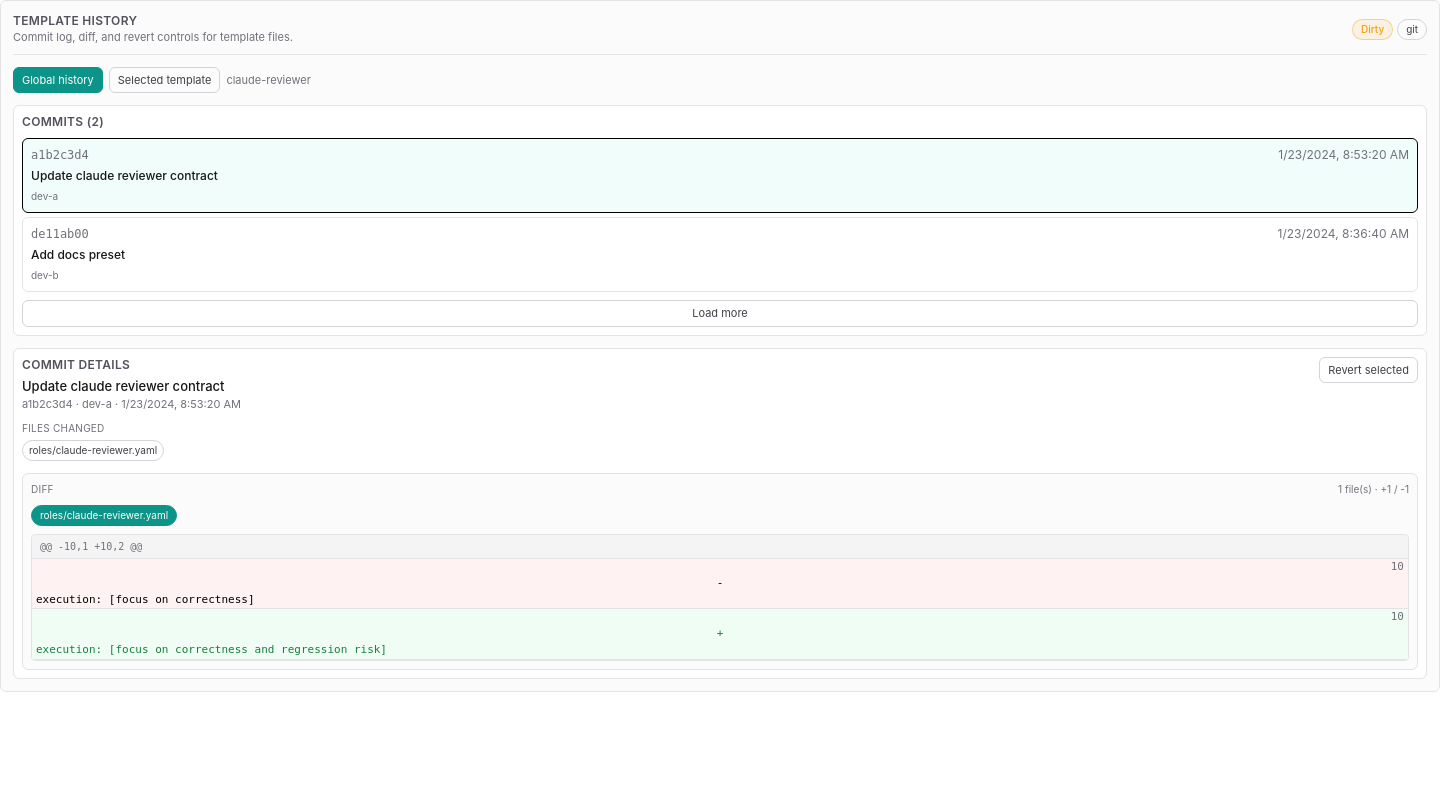
Test: TemplateHistoryPanel › loads more commits when next cursor exists
The width and height of the screenshot is (1440, 810).
Click the button with test id "template-history-load-more": (720, 313) x1=22 y1=300 x2=1418 y2=326
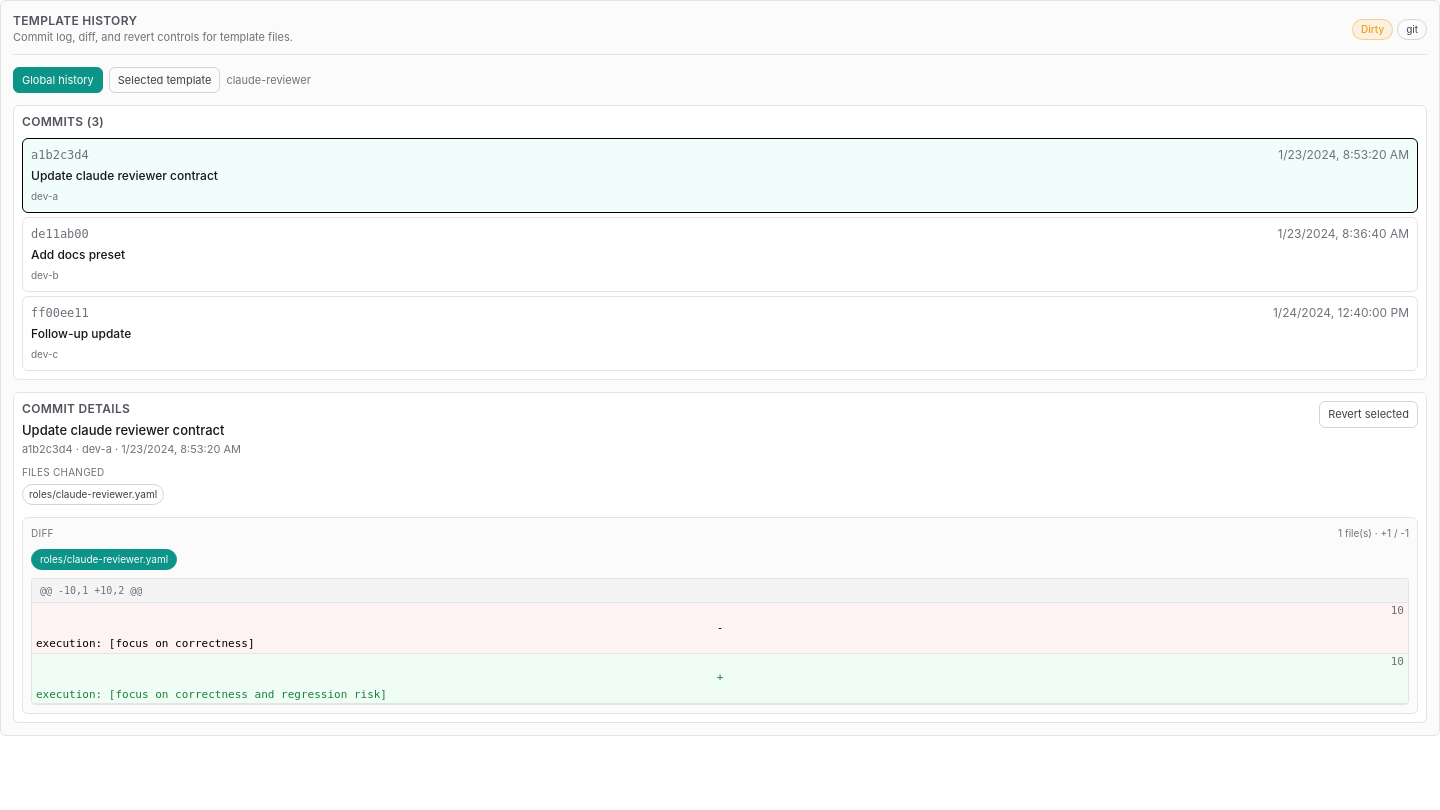
Check: the button with test id "template-history-commit-ff00ee11" is shown, box x1=22 y1=296 x2=1418 y2=371
